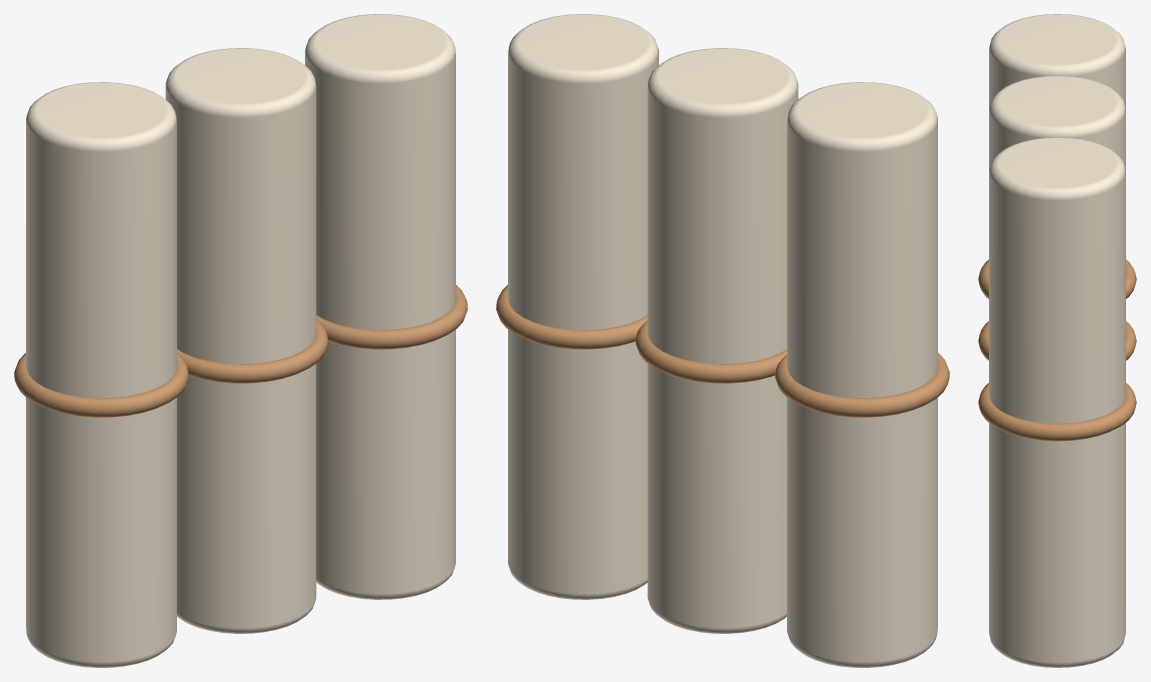
File: officeRolledPapers.glb
3 renders of one model, left to right at view 1: azimuth 30°, elevation 25°; view 2: azimuth 150°, elevation 25°; view 3: azimuth 270°, elevation 25°, orthographic. The views are drawn at different scales.
Visible parts, largest first — view 1: Rolled drawing, Rolled drawing.001, Rolled drawing.002, Drawing band, Drawing band.002, Drawing band.001; view 2: Rolled drawing, Rolled drawing.001, Rolled drawing.002, Drawing band, Drawing band.002, Drawing band.001; view 3: Rolled drawing.002, Rolled drawing.001, Rolled drawing, Drawing band.002, Drawing band, Drawing band.001.
Boxes of the visible parts, x1,y1,x2,y2 form: Rolled drawing: (26,82,176,667); Rolled drawing.001: (165,48,316,633); Rolled drawing.002: (305,14,455,599); Drawing band: (14,353,188,417); Drawing band.002: (316,285,467,349); Drawing band.001: (177,320,328,383); Rolled drawing: (787,82,937,667); Rolled drawing.001: (647,48,798,633); Rolled drawing.002: (508,14,658,599); Drawing band: (775,353,949,417); Drawing band.002: (496,285,647,349); Drawing band.001: (635,320,786,383); Rolled drawing.002: (989,137,1125,667); Rolled drawing.001: (989,75,1125,170); Rolled drawing: (989,14,1125,109); Drawing band.002: (978,383,1136,441); Drawing band: (978,259,1136,298); Drawing band.001: (978,321,1136,360).
Bounding box in the file's own units: 0.494 × 0.58 × 0.174.
